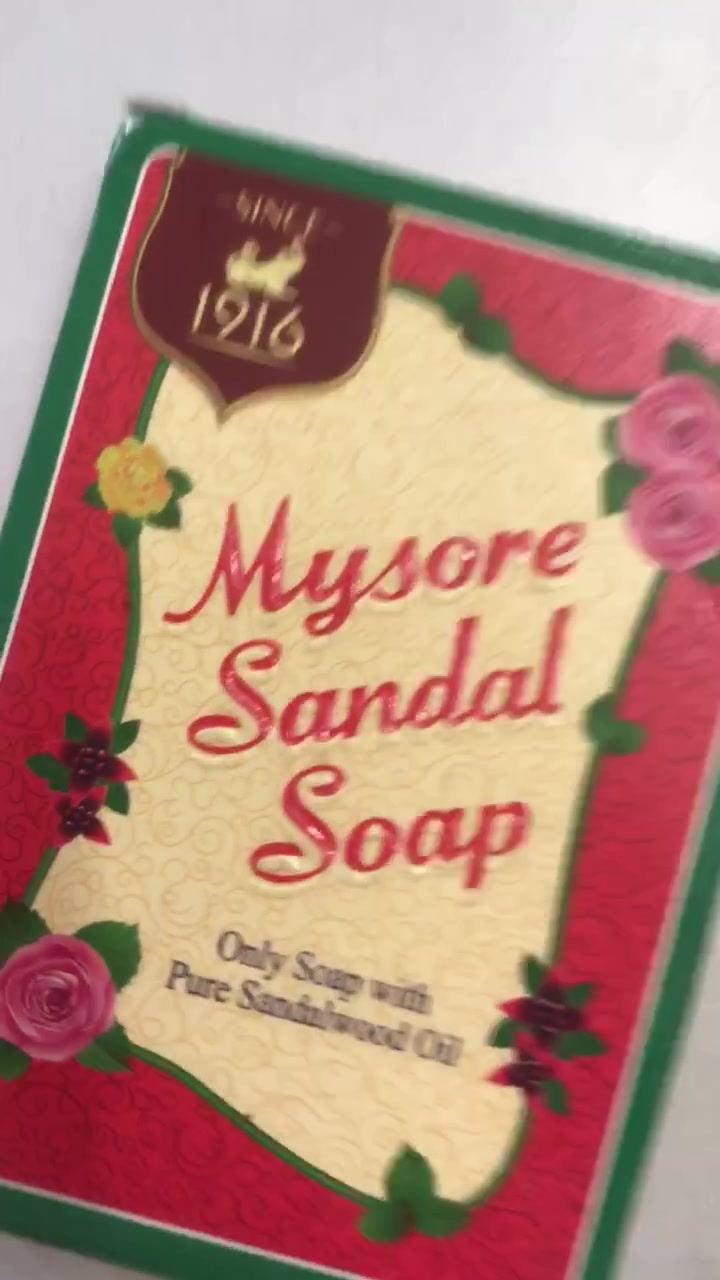mysore sandal soap: (8, 112, 720, 1239)
